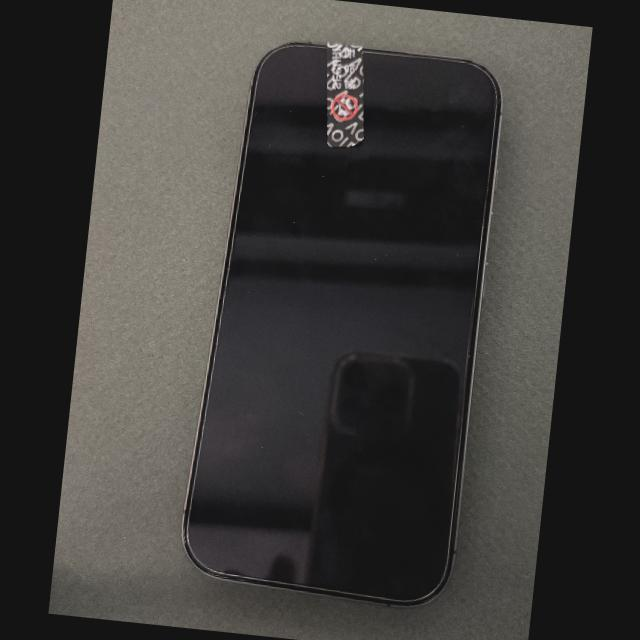phone: (182, 43, 501, 606)
sticker: (326, 42, 364, 147)
